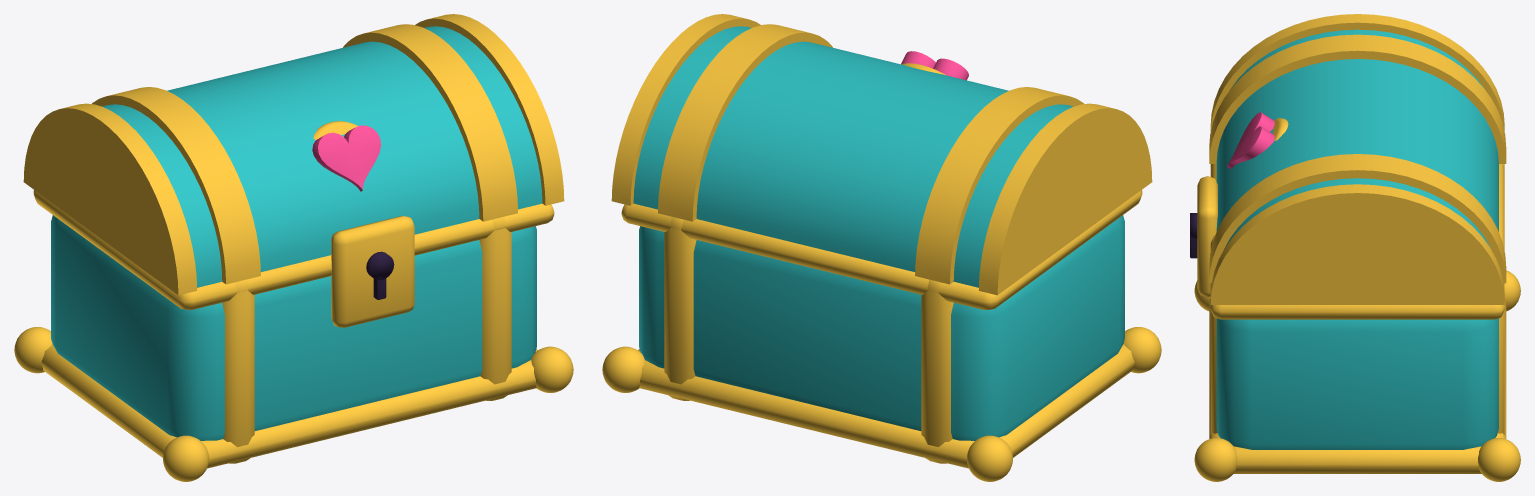
Rendered from chest.glb.
3 views of the same model, side by side, from view 1: azimuth 30°, elevation 25°; view 2: azimuth 150°, elevation 25°; view 3: azimuth 270°, elevation 25° (orthographic). The views are drawn at different scales.
Parts seen in each view (by area): view 1: Lid, ChestBase; view 2: Lid, ChestBase; view 3: Lid, ChestBase.
Part boxes in pixels (x1=…): Lid: x1=23, y1=14, x2=564, y2=295; ChestBase: x1=14, y1=190, x2=573, y2=481; Lid: x1=611, y1=14, x2=1152, y2=295; ChestBase: x1=602, y1=190, x2=1161, y2=481; Lid: x1=1209, y1=14, x2=1506, y2=304; ChestBase: x1=1190, y1=164, x2=1520, y2=481.
Bounding box in the file's own units: 1.51 × 1.1 × 1.12.
